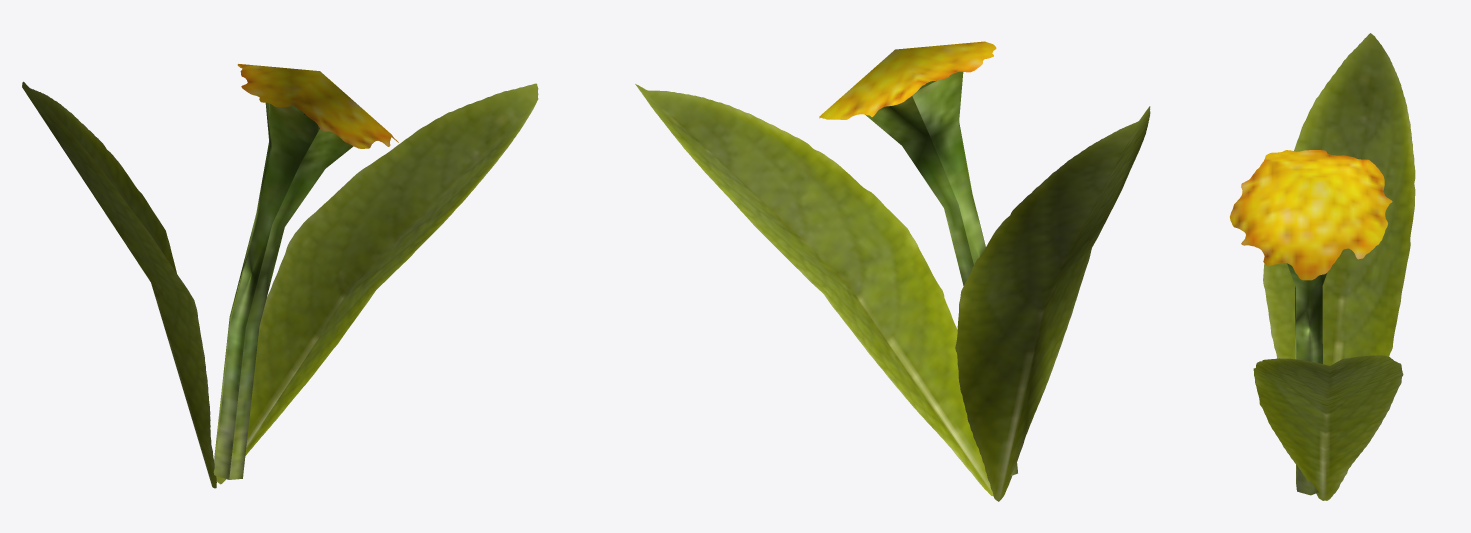
The model's file is yellowf2.obj.
3 renders of one model, left to right at view 1: azimuth 30°, elevation 25°; view 2: azimuth 150°, elevation 25°; view 3: azimuth 270°, elevation 25°, orthographic. The views are drawn at different scales.
Visible parts, largest first — view 1: yellowflower02; view 2: yellowflower02; view 3: yellowflower02.
Boxes of the visible parts, <box> form: yellowflower02: <box>22,64,538,488</box>; yellowflower02: <box>635,41,1150,501</box>; yellowflower02: <box>1230,33,1415,500</box>.
Size of the model in its own units: 19.28 by 16.69 by 8.26.
Materials: 2 (2 with a texture image).
